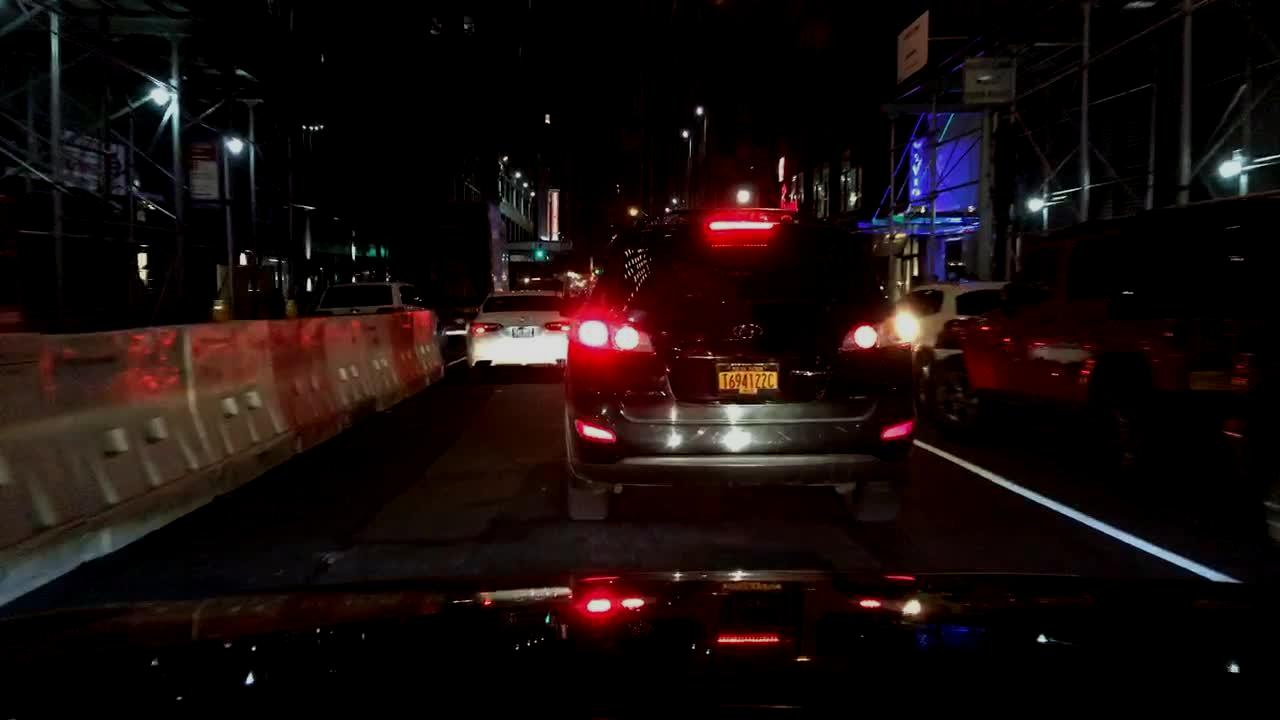Hyundai: (730, 313, 769, 348)
